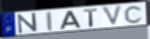A: (59, 10, 82, 30)
C: (124, 5, 144, 25)
I: (46, 11, 54, 32)
N: (17, 11, 39, 34)
T: (83, 8, 100, 28)
V: (100, 4, 124, 28)
